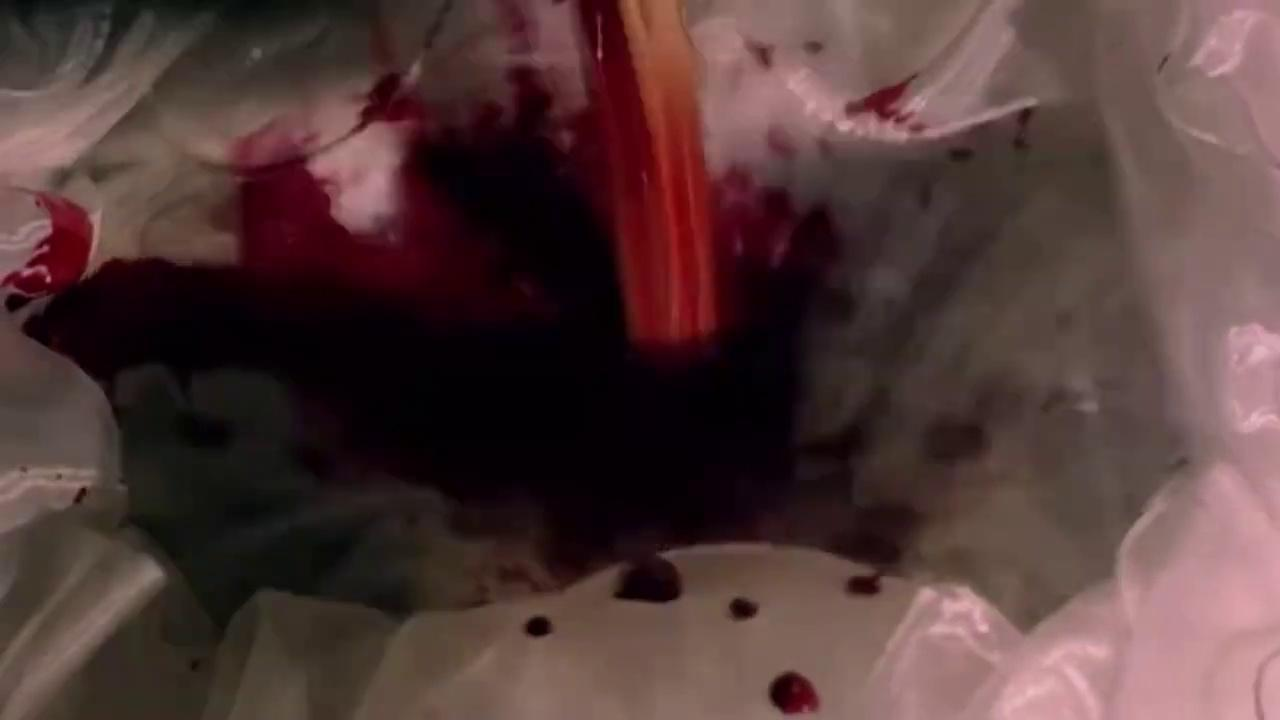Fire: (0, 0, 1018, 616)
